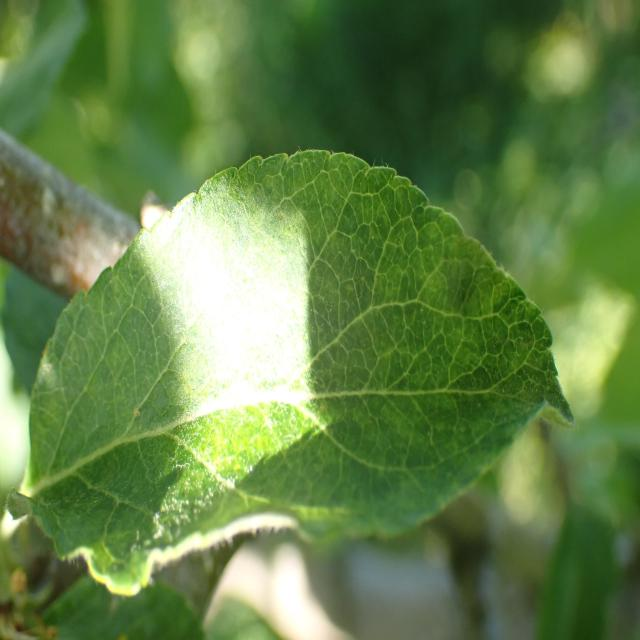scab: (53, 206, 564, 513)
